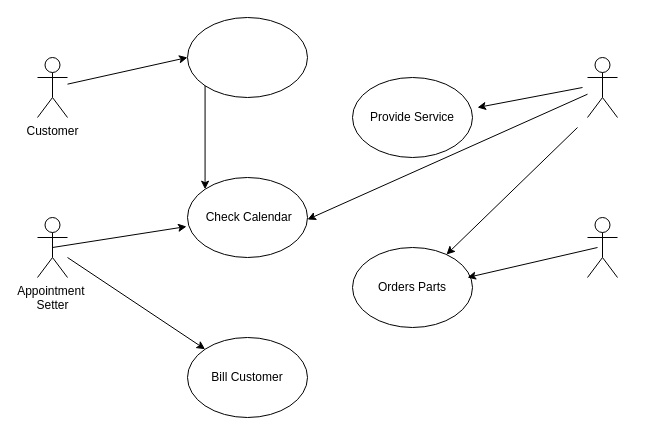
This 666x435 diagram has some shape labels left out. Here are the shapes that lost their labels. From the top down, the centre of each, then its label:
At (x=247, y=57): "Request Service".
At (x=602, y=87): "Technician".
At (x=602, y=247): "Equipment/Parts Dept Associate".
